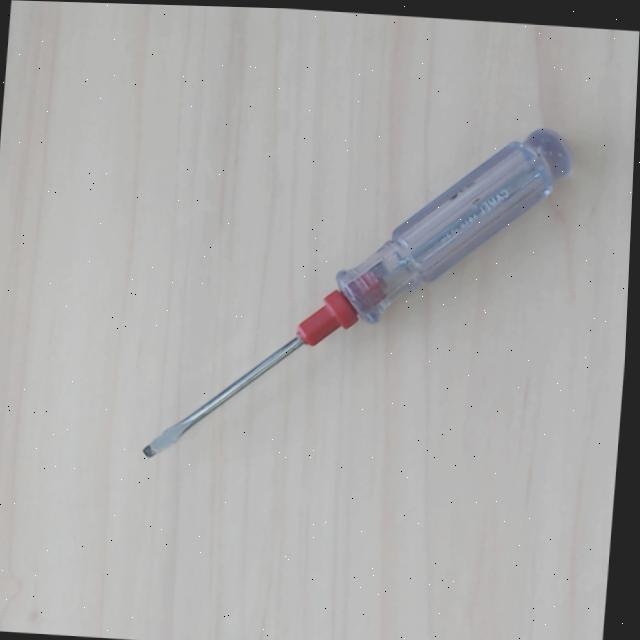Obeng-Kecil: (126, 116, 583, 481)
